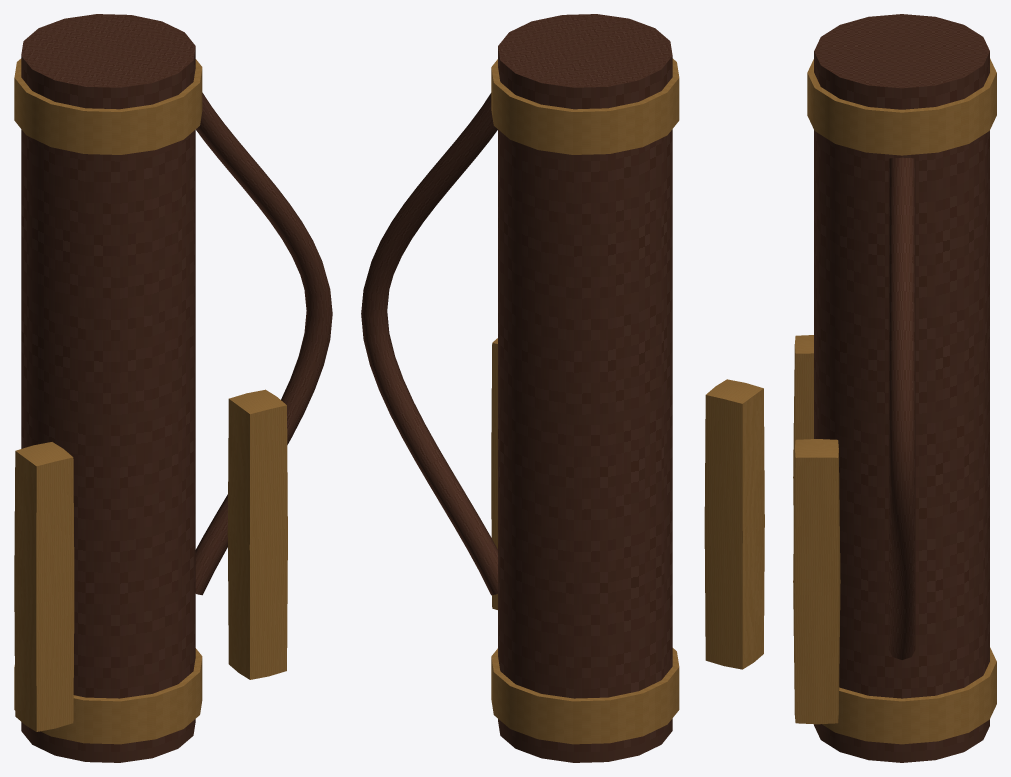
3 renders of one model, left to right at view 1: azimuth 30°, elevation 25°; view 2: azimuth 150°, elevation 25°; view 3: azimuth 270°, elevation 25°, orthographic.
Visible parts, largest first — view 1: leather.0, brass.4, brass.5, leather.3, brass.2, brass.1; view 2: leather.0, brass.4, leather.3, brass.2, brass.1, brass.5; view 3: leather.0, leather.3, brass.5, brass.2, brass.1, brass.4.
Part boxes in pixels (x1,y1,x2,y2): leather.0: (21, 14, 195, 762); brass.4: (14, 442, 74, 731); brass.5: (227, 389, 287, 679); leather.3: (195, 92, 332, 595); brass.2: (14, 58, 202, 154); brass.1: (14, 648, 202, 744); leather.0: (498, 14, 672, 762); brass.4: (704, 379, 764, 669); leather.3: (361, 93, 497, 595); brass.2: (491, 58, 679, 154); brass.1: (491, 648, 679, 744); brass.5: (491, 338, 497, 609); leather.0: (814, 14, 989, 762); leather.3: (888, 157, 915, 659); brass.5: (793, 439, 840, 724); brass.2: (807, 58, 996, 155); brass.1: (822, 647, 996, 744); brass.4: (793, 335, 813, 526).
Size of the model in its own units: 0.2985 by 0.55 by 0.1505.
Materials: 2 (2 with a texture image).
